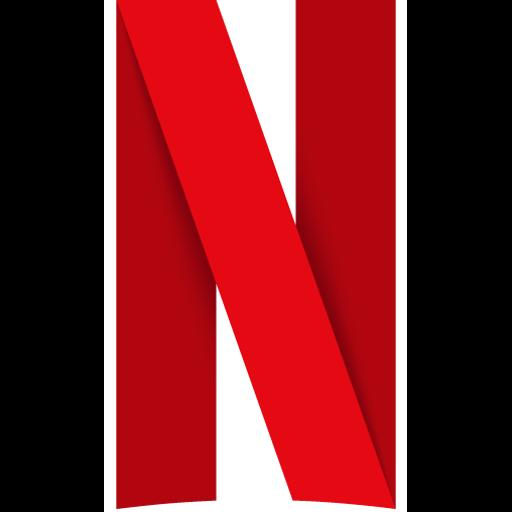Netflix: (104, 0, 407, 512)
